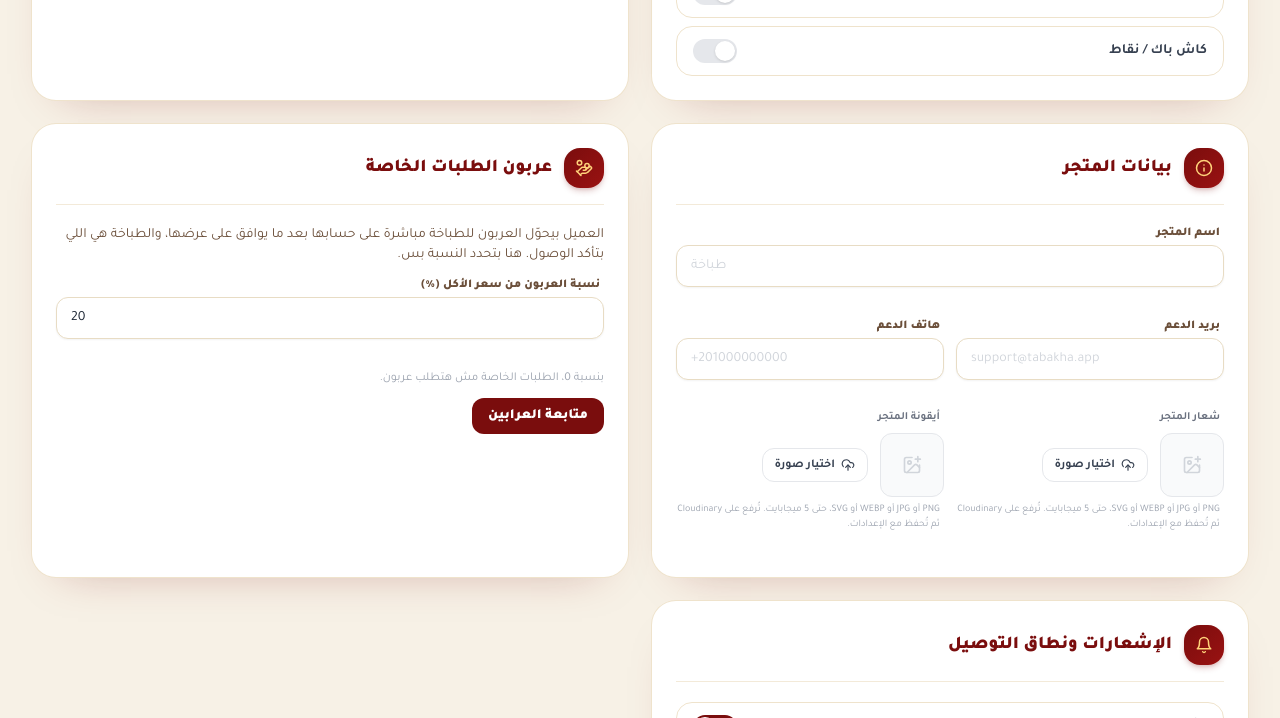
Test case: Platform settings — the §6 system settings cards › a keyed 422 from the server lands under the matching field
This screenshot has width=1280, height=718.
(page scrolled)
In the field labelled "بريد الدعم": x=1090, y=359 [956,338,1224,380], type "not-an-email@x"
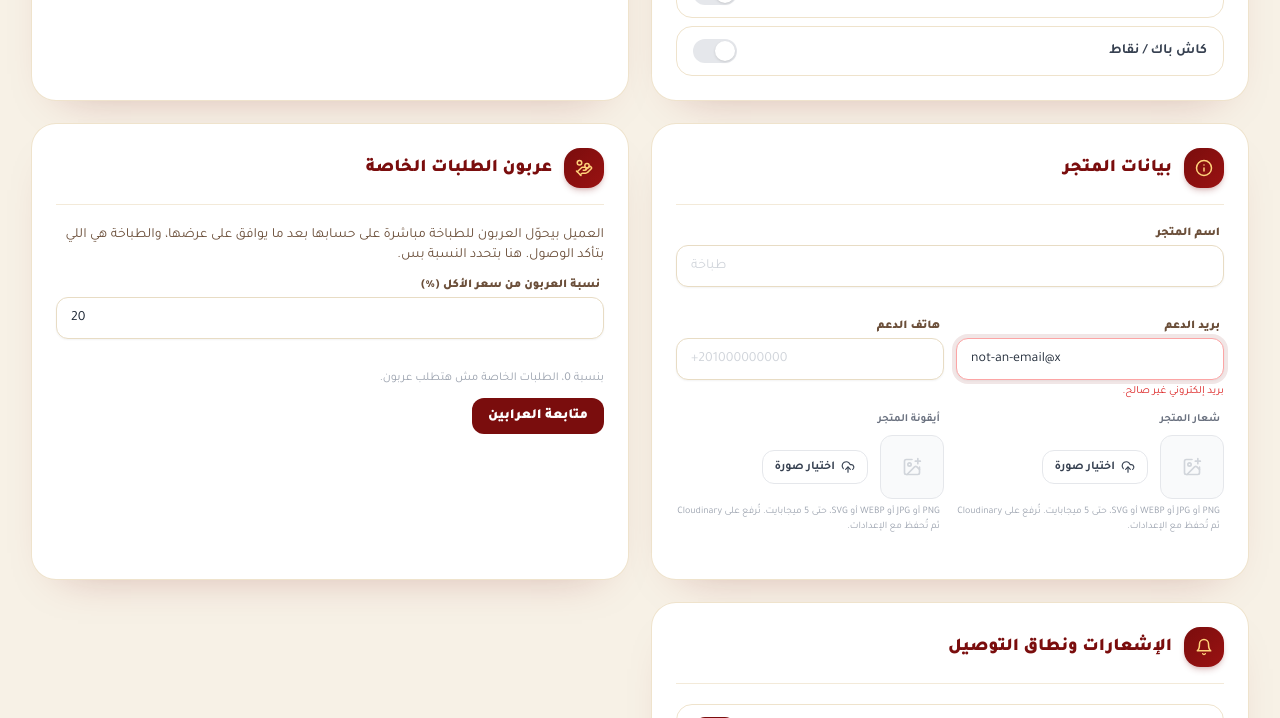
client rule already flags it — fix locally to a plausible value, let the server reject
Replace the text in the field labelled "بريد الدعم" with "ops@tabakha.app": x=1090, y=359 [956,338,1224,380]
(page scrolled)
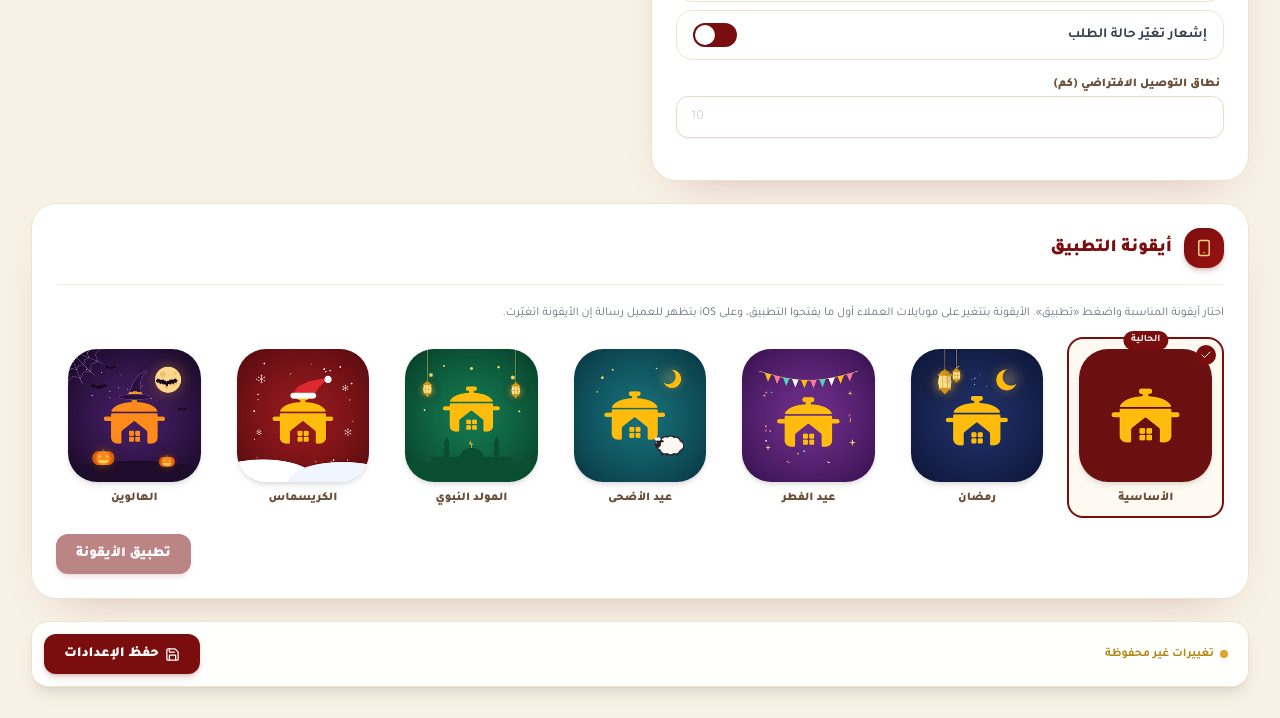
Click the button "حفظ الإعدادات": x=122, y=654 [44,634,200,674]
(page scrolled)
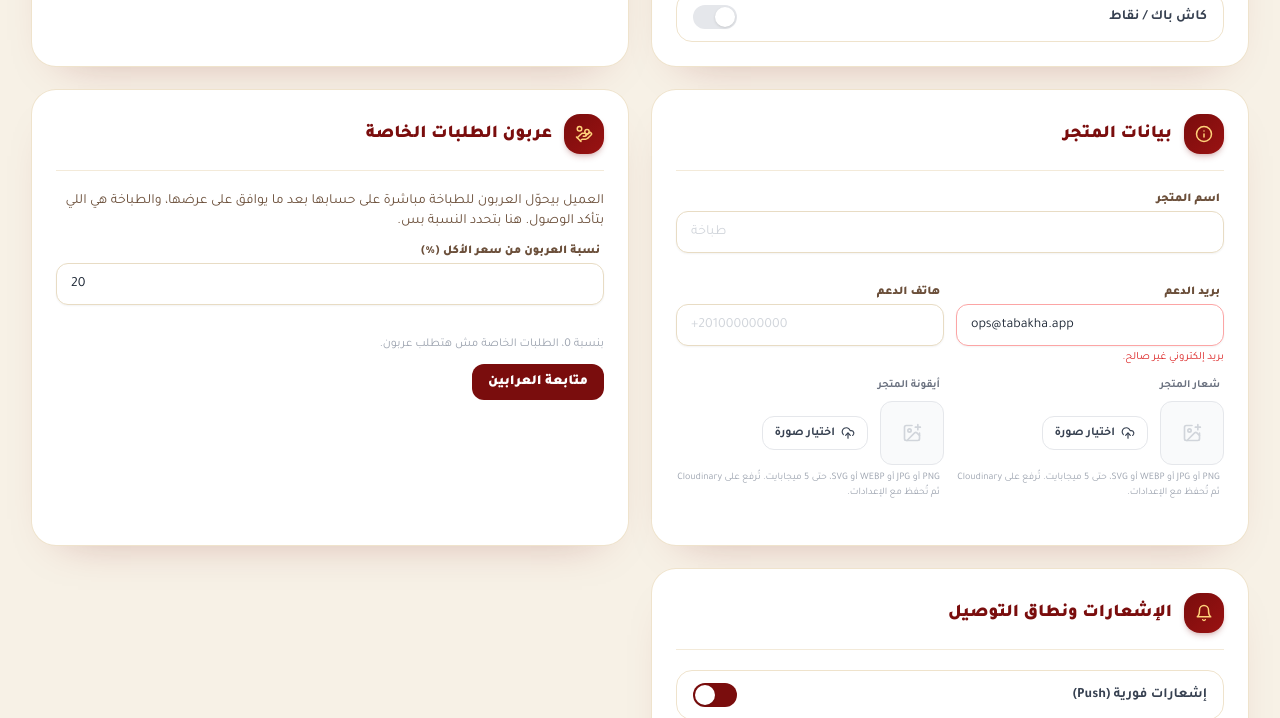
Now the text "بريد إلكتروني غير صالح." is shown, box [1122,352,1224,363]
